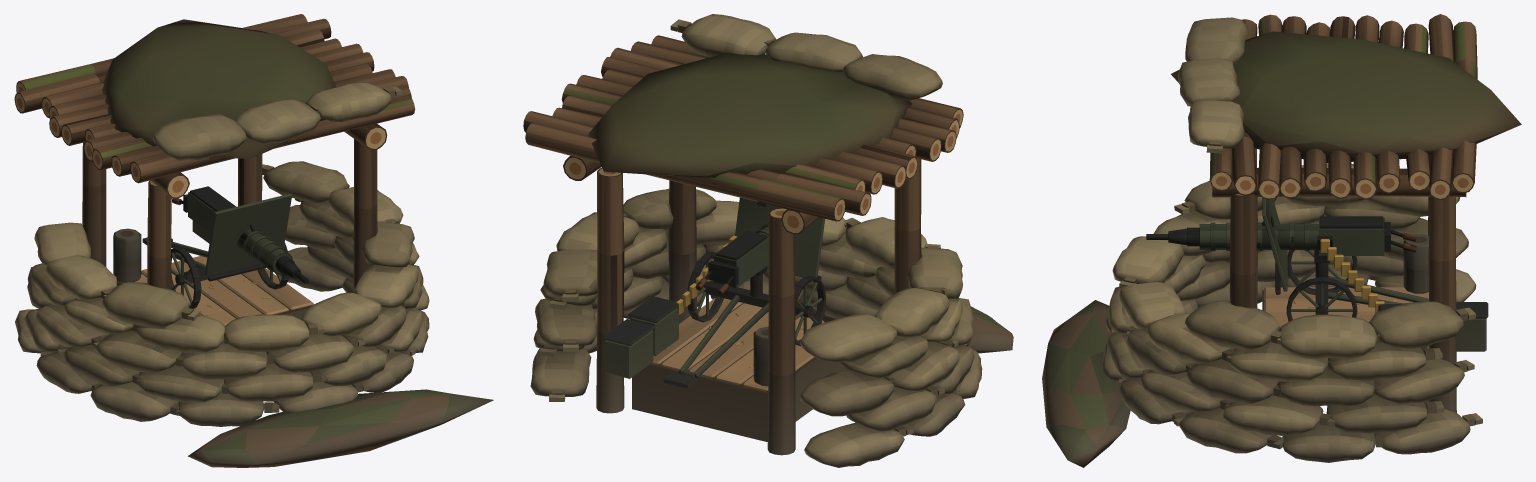
File: makineli.glb
The picture shows the model from 3 angles, left to right: view 1: azimuth 30°, elevation 25°; view 2: azimuth 150°, elevation 25°; view 3: azimuth 270°, elevation 25°; orthographic projection. The views are drawn at different scales.
Visible parts, largest first — view 1: sand-bags-001, sand-turf-004, log-roof-005, sand-003, sand-bags-005, plank-001, dark-shield-002, dark-gun-001, log-002, log-001, log-003, dark-boxes-007 (+3 smaller); view 2: sand-bags-001, sand-turf-004, log-roof-005, sand-bags-005, sand-platform-002, log-003, log-004, plank-001, dark-boxes-007, log-002, dark-gun-001, log-001 (+6 smaller); view 3: sand-bags-001, sand-turf-004, log-roof-005, sand-003, sand-bags-005, dark-gun-001, log-004, log-002, dark-boxes-007, plank-001, dark-wheel-005, dark-shield-002 (+3 smaller).
Part boxes in pixels (<box>): sand-bags-001: <box>15,161,429,426</box>; sand-turf-004: <box>102,19,335,159</box>; log-roof-005: <box>14,14,415,198</box>; sand-003: <box>188,389,493,467</box>; sand-bags-005: <box>153,82,402,160</box>; plank-001: <box>121,256,313,325</box>; dark-shield-002: <box>205,193,291,281</box>; dark-gun-001: <box>172,186,309,283</box>; log-002: <box>353,139,377,292</box>; log-001: <box>147,180,171,289</box>; log-003: <box>82,142,106,266</box>; dark-boxes-007: <box>113,220,210,282</box>; sand-bags-001: <box>530,188,982,467</box>; sand-turf-004: <box>588,52,912,177</box>; log-roof-005: <box>523,35,963,234</box>; sand-bags-005: <box>670,14,942,100</box>; sand-platform-002: <box>632,304,848,442</box>; log-003: <box>767,208,795,455</box>; log-004: <box>596,167,624,413</box>; plank-001: <box>651,298,824,391</box>; dark-boxes-007: <box>602,296,768,386</box>; log-002: <box>668,180,696,323</box>; dark-gun-001: <box>695,223,768,297</box>; log-001: <box>894,158,921,293</box>; sand-bags-001: <box>1102,163,1482,462</box>; sand-turf-004: <box>1171,31,1521,163</box>; log-roof-005: <box>1209,14,1477,200</box>; sand-003: <box>1042,300,1130,467</box>; sand-bags-005: <box>1177,17,1248,153</box>; dark-gun-001: <box>1146,216,1416,284</box>; log-004: <box>1428,196,1456,412</box>; log-002: <box>1230,194,1256,307</box>; dark-boxes-007: <box>1378,234,1488,351</box>; plank-001: <box>1264,287,1429,348</box>; dark-wheel-005: <box>1286,277,1357,321</box>; dark-shield-002: <box>1262,198,1287,294</box>.
Bounding box in the file's own units: 2.88 × 2.33 × 3.06.
